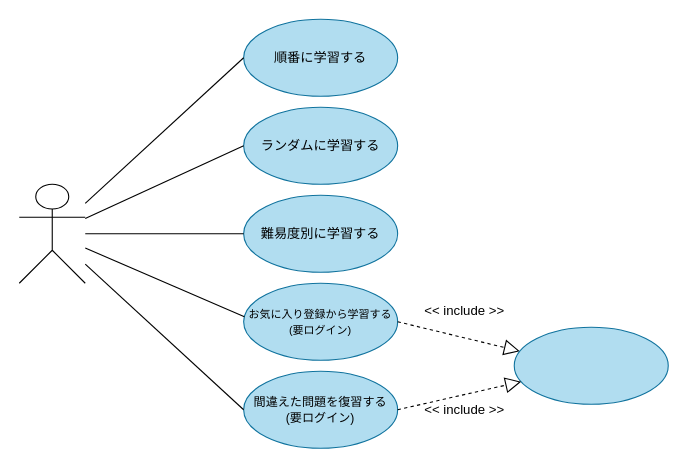
This 688x468 diagram has some shape labels left out. The shapes that lost their labels are listed below. From the top down, each one's box as (x1, y1, x2, y2) in pixels, then its label:
(18, 183, 85, 283): 学習者
(513, 326, 668, 404): ログイン
